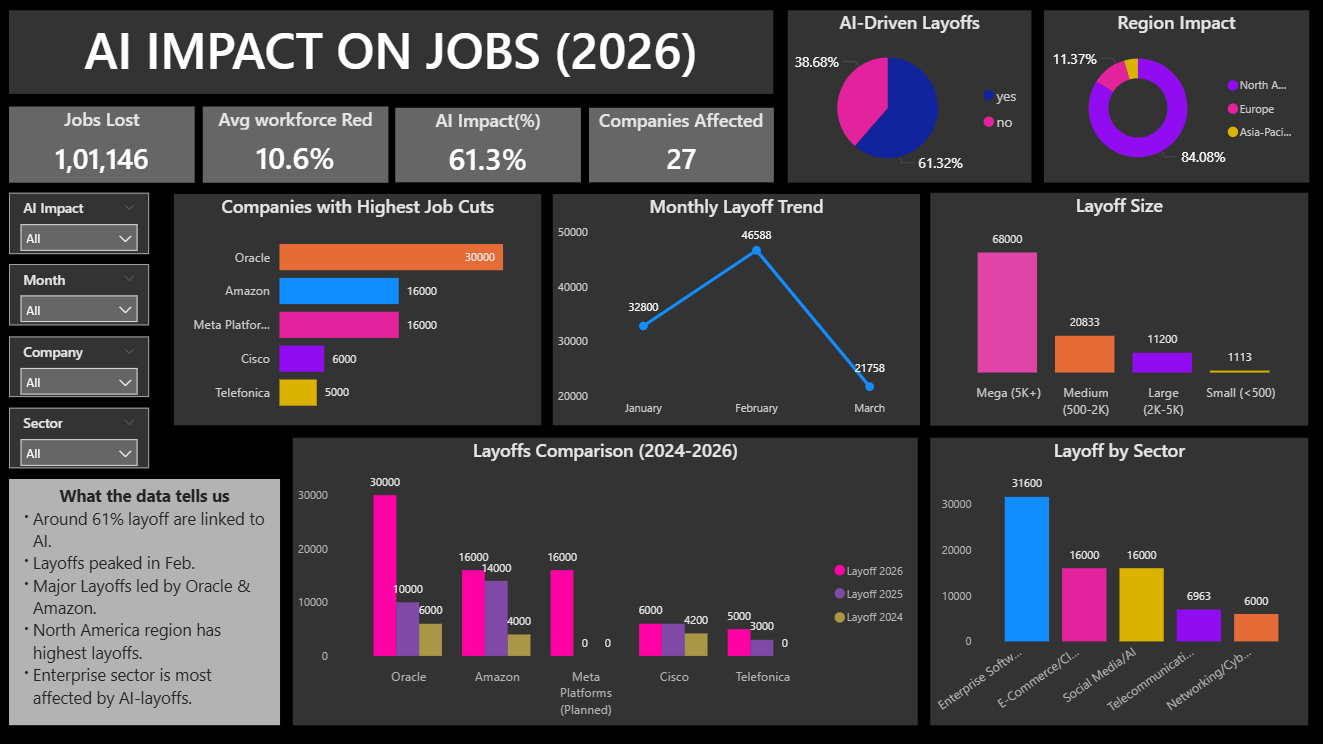

What the dashboard file says about the page in this screenshot:
{"tool":"powerbi","page":{"name":"Page 1","canvas":[1280,720],"ordinal":0},"visuals":[{"type":"cardVisual","title":"Jobs Lost","fields":{"Data":["Sum(AI_job_layoff_data.jobs_cut)"]},"box":[10.1,103.5,179.3,73.2],"z":0},{"type":"cardVisual","title":"Avg workforce Red","fields":{"Data":["AI_job_layoff_data.average workforce cut"]},"box":[196.5,103.5,179.3,73.2],"z":1000},{"type":"cardVisual","title":"AI Impact(%)","fields":{"Data":["AI_job_layoff_data.AI-Layoff(%)"]},"box":[383,104.8,179.3,72],"z":2000},{"type":"cardVisual","title":"Companies Affected","fields":{"Data":["Count(AI_job_layoff_data.company)"]},"box":[569.4,104.8,178,72],"z":3000},{"type":"textbox","box":[10.1,11.4,737.3,80.8],"z":4000},{"type":"lineChart","title":"Monthly Layoff Trend","fields":{"Category":["AI_job_layoff_data.Month Name"],"Y":["Sum(AI_job_layoff_data.jobs_cut)"]},"box":[534.1,188.1,354.8,223.5],"z":5000},{"type":"barChart","title":"Companies with Highest Job Cuts","fields":{"Y":["Sum(AI_job_layoff_data.jobs_cut)"],"Category":["AI_job_layoff_data.company"]},"box":[169.2,188.1,354.8,223.5],"z":6000},{"type":"columnChart","title":"Layoff by Sector","fields":{"Y":["Sum(AI_job_layoff_data.jobs_cut)"],"Category":["AI_job_layoff_data.sector"]},"box":[899,423,364.9,277.8],"z":7000},{"type":"pieChart","title":"AI-Driven Layoffs","fields":{"Y":["Sum(AI_job_layoff_data.jobs_cut)"],"Category":["AI_job_layoff_data.ai_cited"]},"box":[761.3,10.9,235.3,166.5],"z":8000},{"type":"donutChart","title":"Region Impact","fields":{"Category":["AI_job_layoff_data.region"],"Y":["Sum(AI_job_layoff_data.jobs_cut)"]},"box":[1008.6,10.9,255.8,166.5],"z":9000},{"type":"columnChart","title":"Layoff Size","fields":{"Category":["AI_job_layoff_data.layoff_size_category"],"Y":["Sum(AI_job_layoff_data.jobs_cut)"]},"box":[899,186.9,364.9,224.7],"z":10000},{"type":"slicer","fields":{"Values":["AI_job_layoff_data.ai_cited"]},"box":[10.1,186.9,135.1,59.3],"z":11000},{"type":"slicer","fields":{"Values":["AI_job_layoff_data.Month Name"]},"box":[10.1,256.3,135.1,59.3],"z":12000},{"type":"slicer","fields":{"Values":["AI_job_layoff_data.company"]},"box":[10.1,325.7,135.1,58.1],"z":13000},{"type":"slicer","fields":{"Values":["AI_job_layoff_data.sector"]},"box":[10.1,393.9,135.1,58.1],"z":14000},{"type":"clusteredColumnChart","title":"Layoffs Comparison (2024-2026)","fields":{"Category":["AI_job_layoff_data.company"],"Y":["Sum(AI_job_layoff_data.jobs_cut)","Sum(AI_job_layoff_data.layoffs_2025)","Sum(AI_job_layoff_data.layoffs_2024)"]},"box":[283.4,423,603.5,277.8],"z":15000},{"type":"textbox","box":[10.1,463.4,261.4,237.4],"z":16000}]}

Visuals, with their boxes in screenshot pixels (x1, y1, x2, y2), scaled from the page's 1280x720 canvas onto the 1323x744 screenshot:
"Jobs Lost" cardVisual: <bbox>10, 107, 196, 183</bbox>
"Avg workforce Red" cardVisual: <bbox>203, 107, 388, 183</bbox>
"AI Impact(%)" cardVisual: <bbox>396, 108, 581, 183</bbox>
"Companies Affected" cardVisual: <bbox>589, 108, 773, 183</bbox>
textbox: <bbox>10, 12, 773, 95</bbox>
"Monthly Layoff Trend" lineChart: <bbox>552, 194, 919, 425</bbox>
"Companies with Highest Job Cuts" barChart: <bbox>175, 194, 542, 425</bbox>
"Layoff by Sector" columnChart: <bbox>929, 437, 1306, 724</bbox>
"AI-Driven Layoffs" pieChart: <bbox>787, 11, 1030, 183</bbox>
"Region Impact" donutChart: <bbox>1042, 11, 1307, 183</bbox>
"Layoff Size" columnChart: <bbox>929, 193, 1306, 425</bbox>
slicer - AI_job_layoff_data.ai_cited: <bbox>10, 193, 150, 254</bbox>
slicer - AI_job_layoff_data.Month Name: <bbox>10, 265, 150, 326</bbox>
slicer - AI_job_layoff_data.company: <bbox>10, 337, 150, 397</bbox>
slicer - AI_job_layoff_data.sector: <bbox>10, 407, 150, 467</bbox>
"Layoffs Comparison (2024-2026)" clusteredColumnChart: <bbox>293, 437, 917, 724</bbox>
textbox: <bbox>10, 479, 281, 724</bbox>
